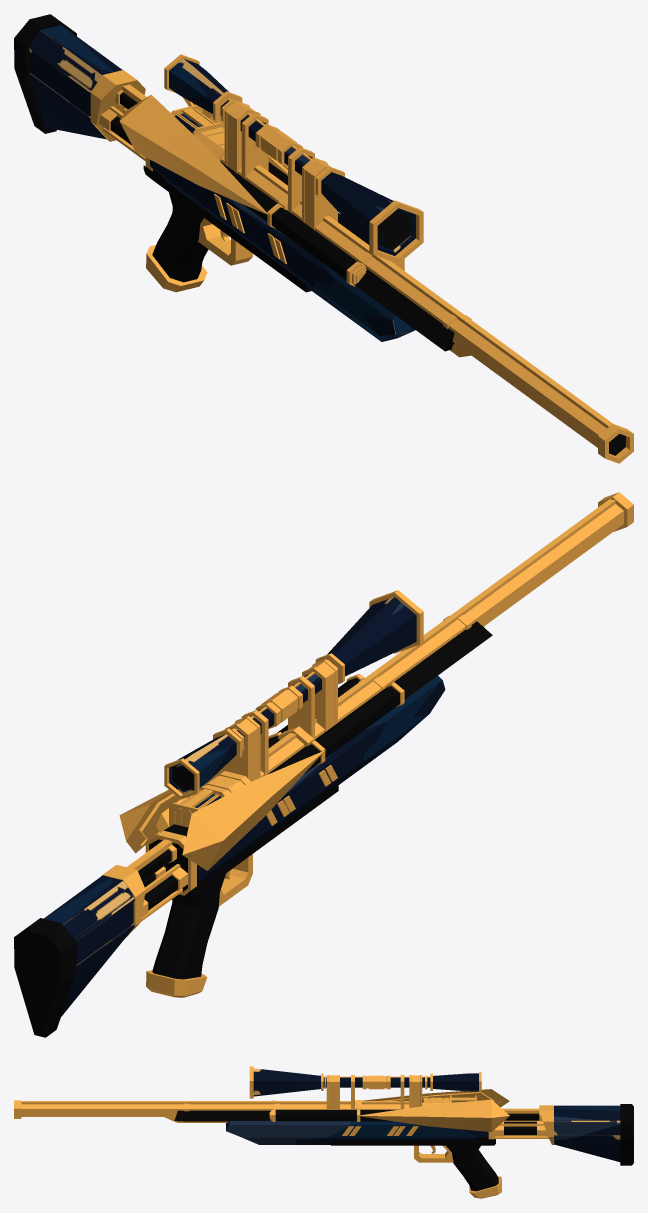
Rendered from low-poly_Sniper_lenta_forte.glb.
3 renders of one model, top to bottom at view 1: azimuth 30°, elevation 25°; view 2: azimuth 150°, elevation 25°; view 3: azimuth 270°, elevation 25°, orthographic. The views are drawn at different scales.
Parts seen in each view (by area): view 1: Rifle_1, Magazine_2; view 2: Rifle_1, Magazine_2; view 3: Rifle_1.
Boxes of the visible parts, x1,y1,x2,y2 form: Rifle_1: (14,14,633,463); Magazine_2: (171,105,224,136); Rifle_1: (14,492,633,1037); Magazine_2: (169,786,225,827); Rifle_1: (14,1066,633,1198).
Bounding box in the file's own units: 2.25 × 5.01 × 21.84.
Materials: 4 (1 with a texture image).
